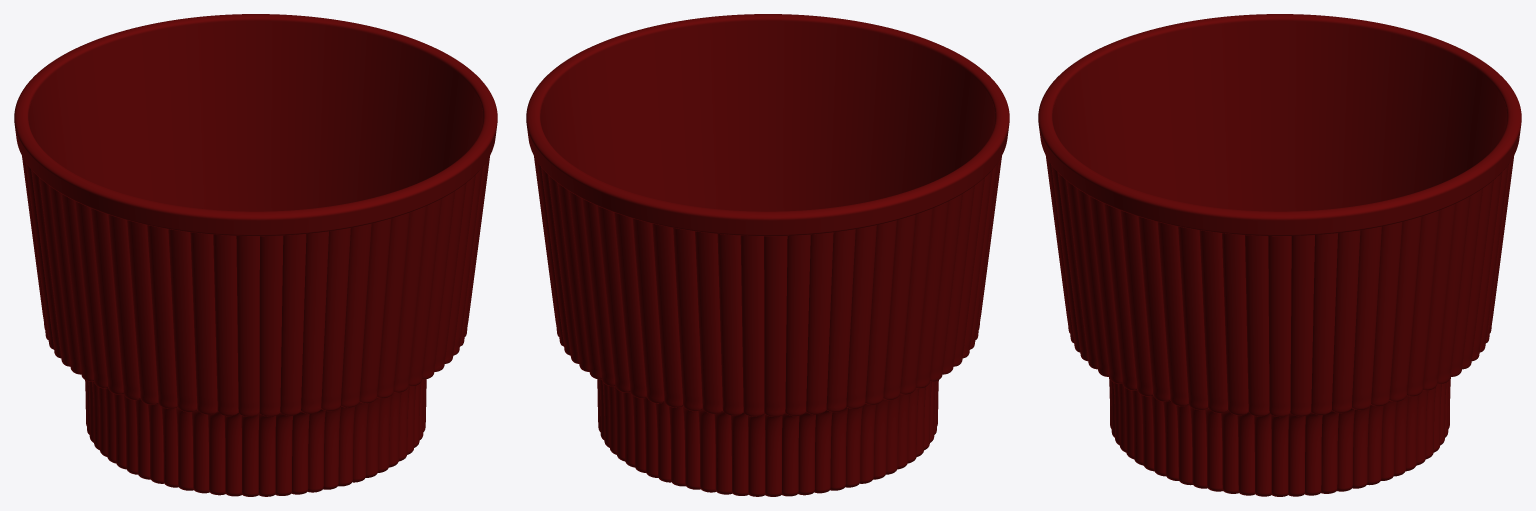
The picture shows the model from 3 angles, left to right: view 1: azimuth 30°, elevation 25°; view 2: azimuth 150°, elevation 25°; view 3: azimuth 270°, elevation 25°; orthographic projection.
Size of the model in its own units: 0.081 by 0.0579 by 0.081.
